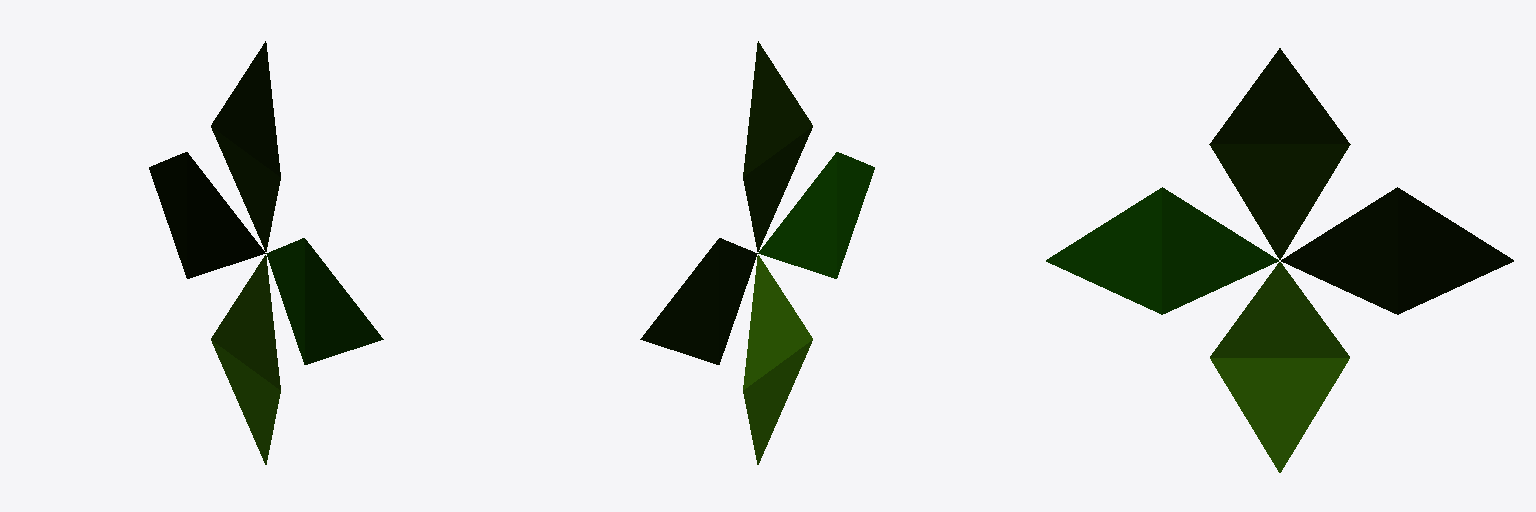
The model's file is leaf_clump_optimized.obj.
3 views of the same model, side by side, from view 1: azimuth 30°, elevation 25°; view 2: azimuth 150°, elevation 25°; view 3: azimuth 270°, elevation 25° (orthographic).
Visible parts, largest first — view 1: Leaf_Top, Leaf_Right, Leaf_Bottom, Leaf_Left; view 2: Leaf_Top, Leaf_Left, Leaf_Bottom, Leaf_Right; view 3: Leaf_Top, Leaf_Right, Leaf_Left, Leaf_Bottom.
Part boxes in pixels (bbox=[...]): Leaf_Top: bbox=[211, 41, 280, 251]; Leaf_Right: bbox=[149, 152, 265, 278]; Leaf_Bottom: bbox=[211, 255, 280, 464]; Leaf_Left: bbox=[266, 238, 383, 364]; Leaf_Top: bbox=[743, 41, 812, 251]; Leaf_Left: bbox=[758, 152, 874, 278]; Leaf_Bottom: bbox=[743, 255, 812, 464]; Leaf_Right: bbox=[640, 238, 757, 364]; Leaf_Top: bbox=[1209, 48, 1350, 259]; Leaf_Right: bbox=[1281, 187, 1513, 314]; Leaf_Left: bbox=[1046, 187, 1278, 314]; Leaf_Bottom: bbox=[1210, 262, 1349, 472].
Size of the model in its own units: 0.001 by 0.02 by 0.02.